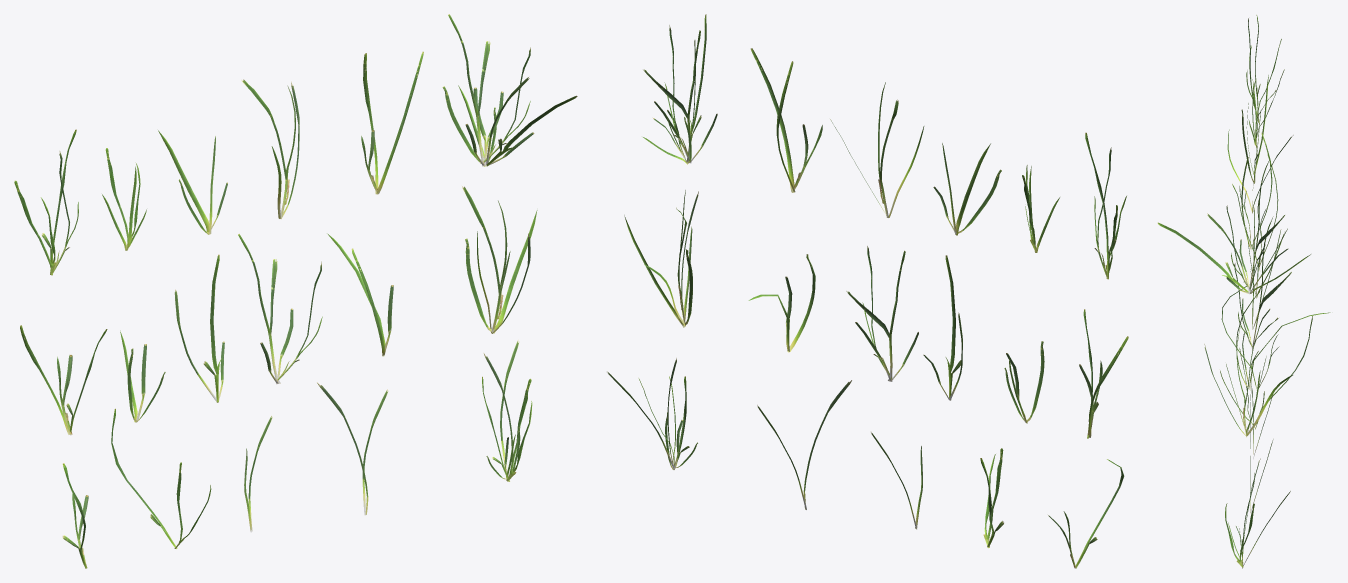
File: Grass_Green_Strands.dae
3 renders of one model, left to right at view 1: azimuth 30°, elevation 25°; view 2: azimuth 150°, elevation 25°; view 3: azimuth 270°, elevation 25°, orthographic. The views are drawn at different scales.
Visible parts, largest first — view 1: Grass_Green_Strands.014, Grass_Green_Strands.016, Grass_Green_Strands.015, Grass_Green_Strands.004, Grass_Green_Strands.011, Grass_Green_Strands.002, Grass_Green_Strands.005, Grass_Green_Strands.001, Grass_Green_Strands.012, Grass_Green_Strands.013, Grass_Green_Strands.007, Grass_Green_Strands.010 (+4 smaller); view 2: Grass_Green_Strands.014, Grass_Green_Strands.016, Grass_Green_Strands.002, Grass_Green_Strands.004, Grass_Green_Strands.015, Grass_Green_Strands.011, Grass_Green_Strands.013, Grass_Green_Strands.001, Grass_Green_Strands.005, Grass_Green_Strands.012, Grass_Green_Strands.010, Grass_Green_Strands.003 (+1 smaller); view 3: Grass_Green_Strands.014, Grass_Green_Strands.016, Grass_Green_Strands.015, Grass_Green_Strands.004, Grass_Green_Strands.011, Grass_Green_Strands.002, Grass_Green_Strands.013, Grass_Green_Strands.010, Grass_Green_Strands.005, Grass_Green_Strands.007, Grass_Green_Strands.003, Grass_Green_Strands.012 (+2 smaller).
Part boxes in pixels (x1=…): Grass_Green_Strands.014: x1=442, y1=14, x2=577, y2=166; Grass_Green_Strands.016: x1=462, y1=186, x2=537, y2=333; Grass_Green_Strands.015: x1=482, y1=340, x2=532, y2=481; Grass_Green_Strands.004: x1=238, y1=233, x2=322, y2=384; Grass_Green_Strands.011: x1=14, y1=129, x2=78, y2=275; Grass_Green_Strands.002: x1=361, y1=51, x2=423, y2=194; Grass_Green_Strands.005: x1=241, y1=79, x2=299, y2=219; Grass_Green_Strands.001: x1=174, y1=254, x2=224, y2=402; Grass_Green_Strands.012: x1=20, y1=325, x2=107, y2=435; Grass_Green_Strands.013: x1=158, y1=130, x2=227, y2=234; Grass_Green_Strands.007: x1=102, y1=148, x2=146, y2=250; Grass_Green_Strands.010: x1=327, y1=233, x2=393, y2=356; Grass_Green_Strands.014: x1=643, y1=14, x2=717, y2=164; Grass_Green_Strands.016: x1=624, y1=190, x2=698, y2=327; Grass_Green_Strands.002: x1=750, y1=48, x2=822, y2=192; Grass_Green_Strands.004: x1=846, y1=246, x2=918, y2=381; Grass_Green_Strands.015: x1=607, y1=358, x2=697, y2=469; Grass_Green_Strands.011: x1=1085, y1=132, x2=1126, y2=279; Grass_Green_Strands.013: x1=933, y1=143, x2=1001, y2=235; Grass_Green_Strands.001: x1=923, y1=255, x2=962, y2=400; Grass_Green_Strands.005: x1=830, y1=82, x2=924, y2=217; Grass_Green_Strands.012: x1=1079, y1=309, x2=1128, y2=438; Grass_Green_Strands.010: x1=748, y1=254, x2=815, y2=352; Grass_Green_Strands.003: x1=980, y1=448, x2=1003, y2=548; Grass_Green_Strands.014: x1=1157, y1=159, x2=1310, y2=294; Grass_Green_Strands.016: x1=1204, y1=317, x2=1292, y2=436; Grass_Green_Strands.015: x1=1225, y1=458, x2=1290, y2=568; Grass_Green_Strands.004: x1=1234, y1=216, x2=1291, y2=349; Grass_Green_Strands.011: x1=1246, y1=15, x2=1281, y2=123; Grass_Green_Strands.002: x1=1239, y1=132, x2=1272, y2=249; Grass_Green_Strands.013: x1=1241, y1=75, x2=1268, y2=183; Grass_Green_Strands.010: x1=1236, y1=289, x2=1330, y2=390; Grass_Green_Strands.005: x1=1227, y1=90, x2=1293, y2=213; Grass_Green_Strands.007: x1=1248, y1=69, x2=1284, y2=147; Grass_Green_Strands.003: x1=1220, y1=316, x2=1312, y2=429; Grass_Green_Strands.012: x1=1232, y1=154, x2=1278, y2=270.
Bounding box in the file's own units: 0.3079 × 0.1083 × 0.269.
